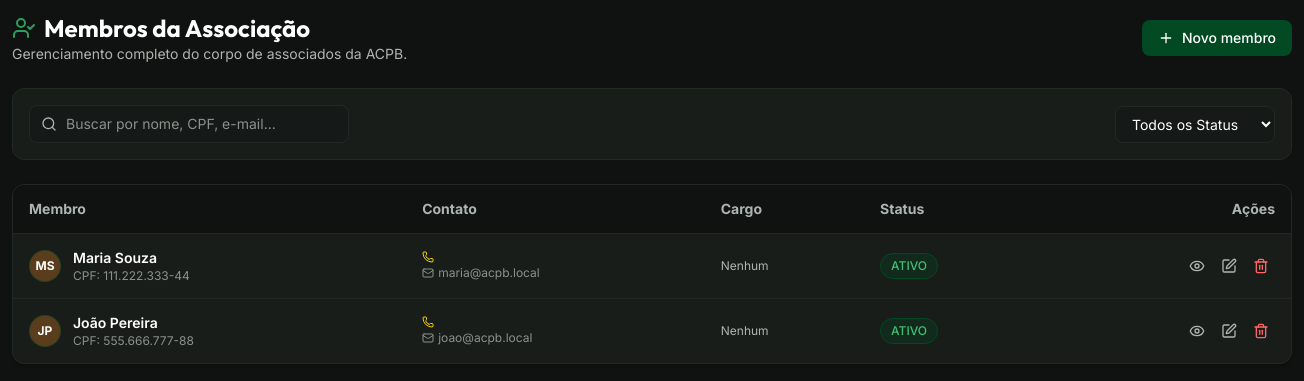
Test: MembersList — busca › filtra por CPF mesmo digitado com máscara
The width and height of the screenshot is (1304, 381).
Expected: the text "Maria Souza" is shown, [73, 249, 157, 266]
Type "111.222.333-44" into the field with placeholder "Buscar por nome, CPF, e-mail...".
click(189, 124); type("111.222.333-44")  # box [29, 105, 349, 143]
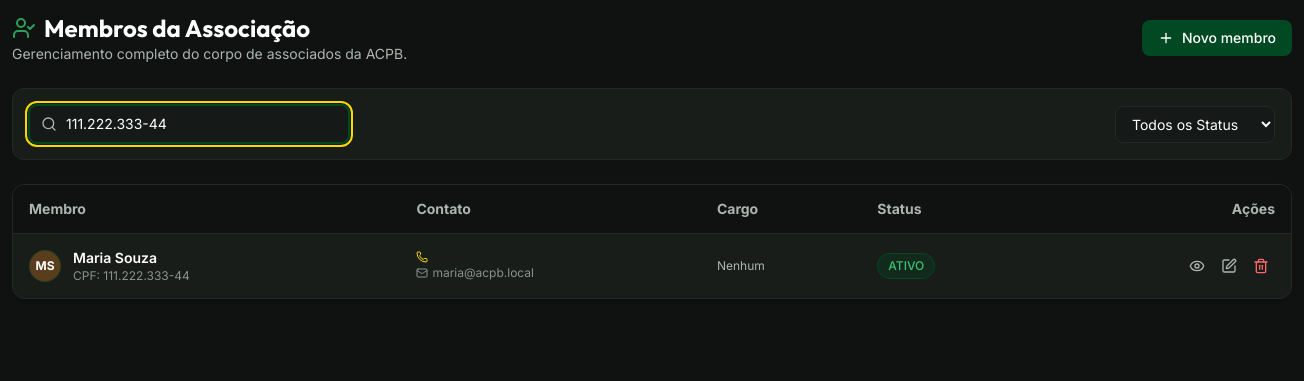
Expected: the text "Maria Souza" is shown, [73, 249, 157, 266]
Expected: the text "João Pereira" is gone
